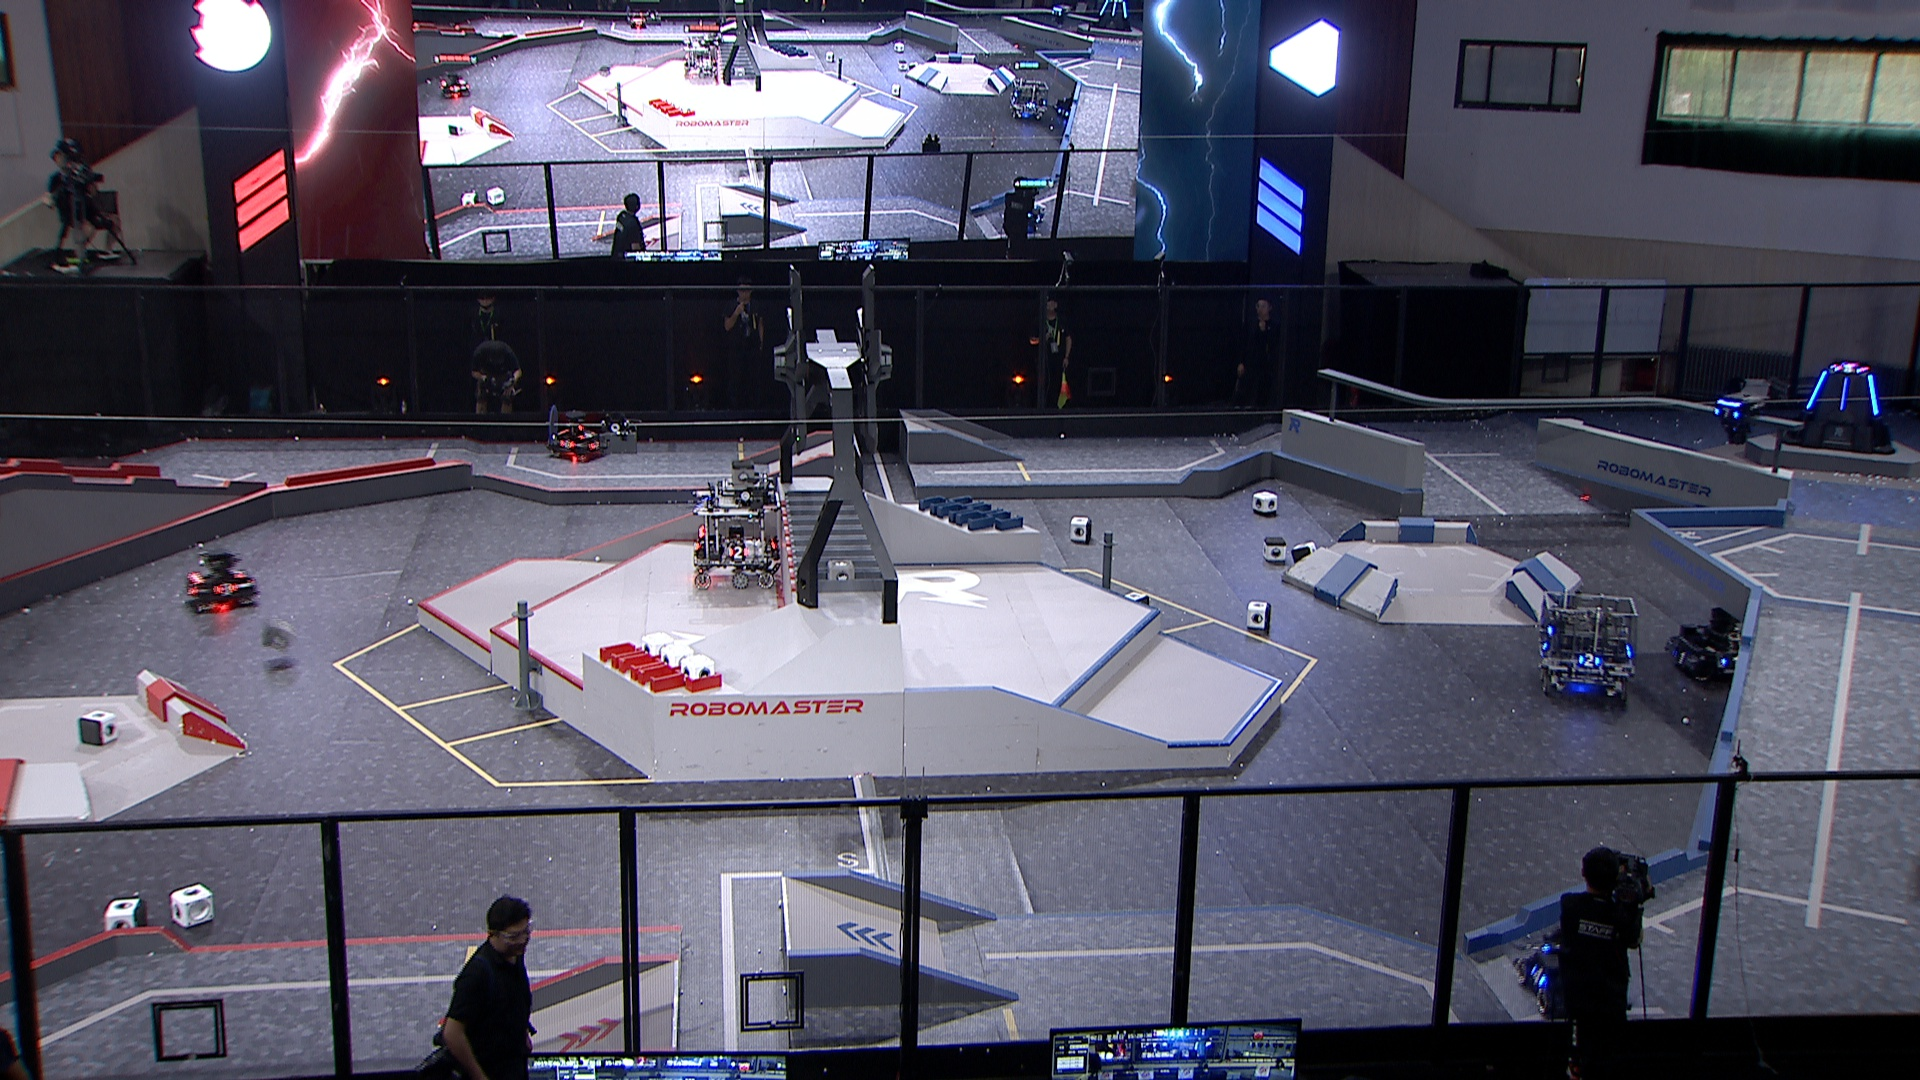armor: (1807, 371, 1830, 410), (1865, 373, 1884, 417), (1528, 964, 1548, 986), (1837, 377, 1849, 413), (212, 582, 239, 597), (727, 545, 752, 560), (1577, 654, 1602, 670), (1714, 405, 1741, 419), (1673, 651, 1691, 669), (556, 439, 578, 450), (579, 431, 595, 440), (588, 440, 600, 452)
base: (1774, 357, 1898, 456)
car: (1534, 589, 1644, 708), (686, 465, 785, 589), (1514, 924, 1622, 1015), (1665, 603, 1768, 688), (181, 550, 258, 613), (547, 409, 611, 460)
ignore: (996, 181, 1044, 235), (679, 33, 723, 80), (1010, 78, 1048, 121), (434, 69, 472, 100), (1046, 1, 1073, 26), (1048, 94, 1073, 119), (1832, 363, 1869, 375)
watcher: (1708, 392, 1762, 447)
